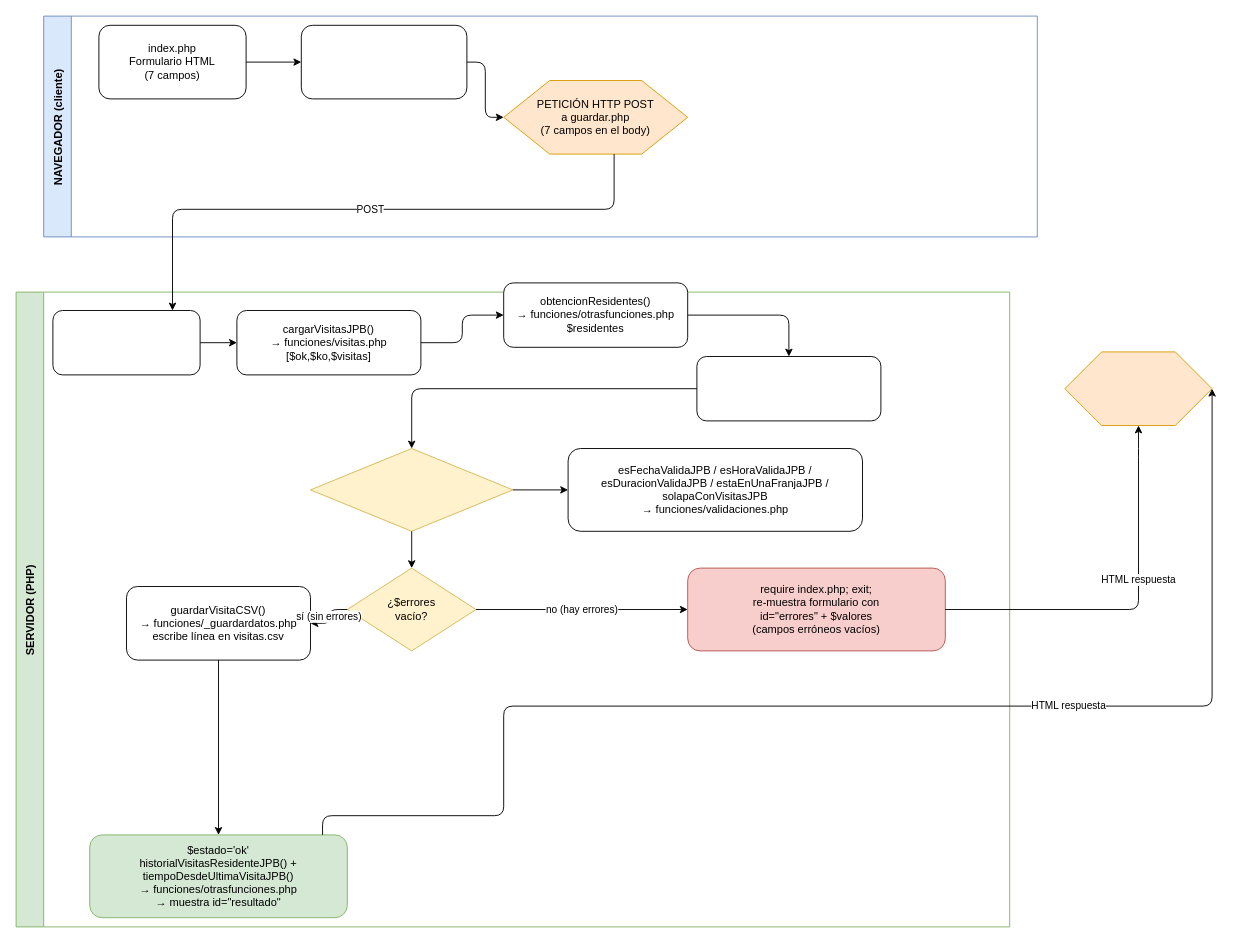
This 1236x943 diagram has some shape labels left out. The centre of each missing label's shape, as x and y in pixels:
conf/horario.php $tramos, $duracion_minima: the point at 788,388
guardar.php recibe $_POST (7 variables): the point at 126,342
RESPUESTA HTTP HTML recibido: the point at 1138,388
Usuario pulsa "Registrar la visita" → método POST: the point at 383,61
VALIDACIÓN (guardar.php) acumula $errores y $valores: the point at 411,489
